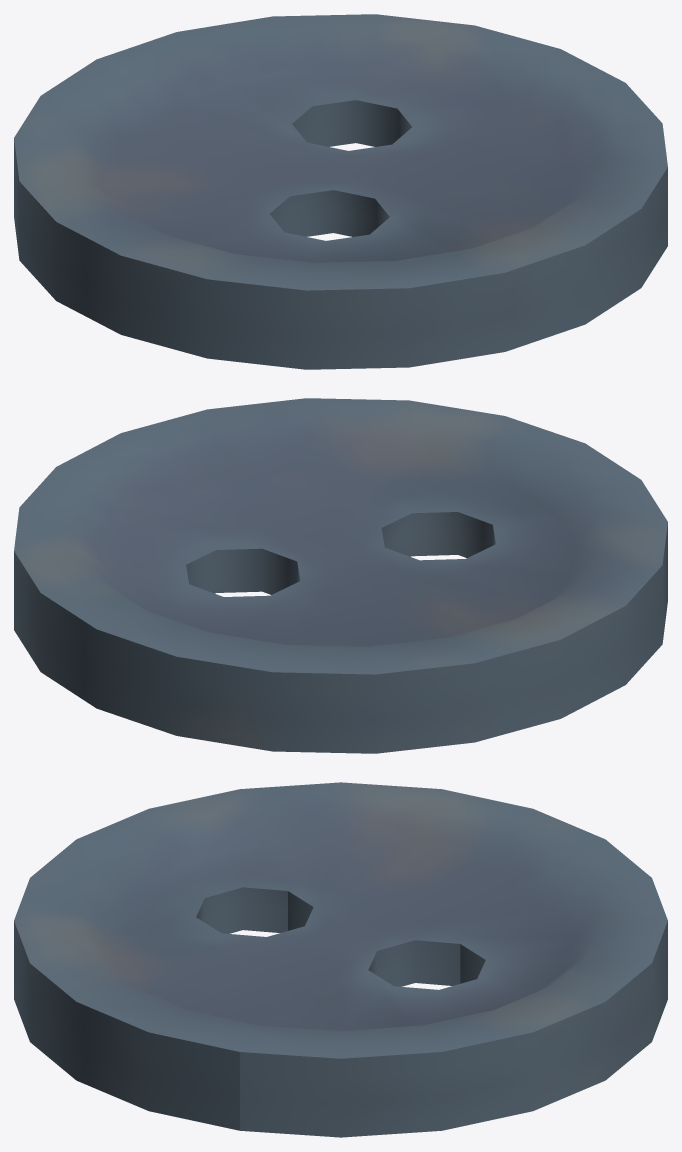
File: SM_Farm_Button_04.fbx
3 views of the same model, one above another, from view 1: azimuth 30°, elevation 25°; view 2: azimuth 150°, elevation 25°; view 3: azimuth 270°, elevation 25° (orthographic).
Visible parts, largest first — view 1: SM_Farm_Button_04_LOD0; view 2: SM_Farm_Button_04_LOD0; view 3: SM_Farm_Button_04_LOD0.
Boxes of the visible parts, left/top/right/bottom form: SM_Farm_Button_04_LOD0: left=14, top=14, right=667, bottom=369; SM_Farm_Button_04_LOD0: left=14, top=398, right=667, bottom=753; SM_Farm_Button_04_LOD0: left=14, top=782, right=667, bottom=1137.
Size of the model in its own units: 5.88 by 0.7813 by 5.88.
